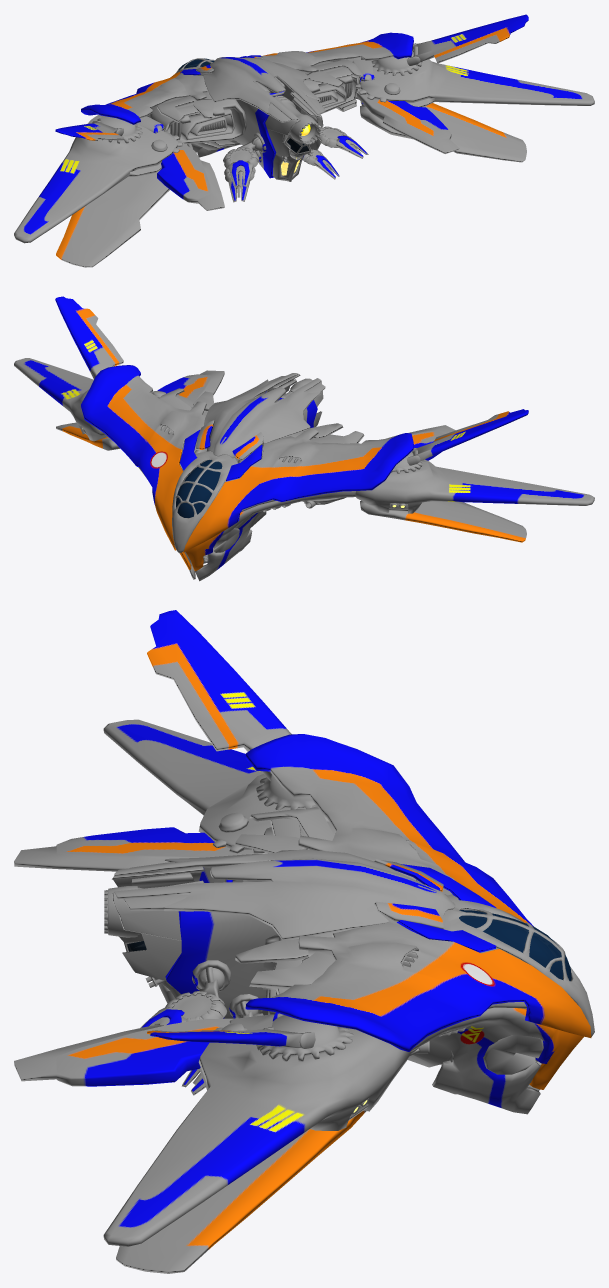
3 views of the same model, one above another, from view 1: azimuth 30°, elevation 25°; view 2: azimuth 150°, elevation 25°; view 3: azimuth 270°, elevation 25° (orthographic). The views are drawn at different scales.
Visible parts, largest first — view 1: GotG Milano.Shape; view 2: GotG Milano.Shape; view 3: GotG Milano.Shape.
Boxes of the visible parts, x1,y1,x2,y2 form: GotG Milano.Shape: (14,14,594,267); GotG Milano.Shape: (14,296,594,581); GotG Milano.Shape: (14,610,594,1273).
Bounding box in the file's own units: 5800 × 1497 × 2730.
54 materials, 52 textured.
